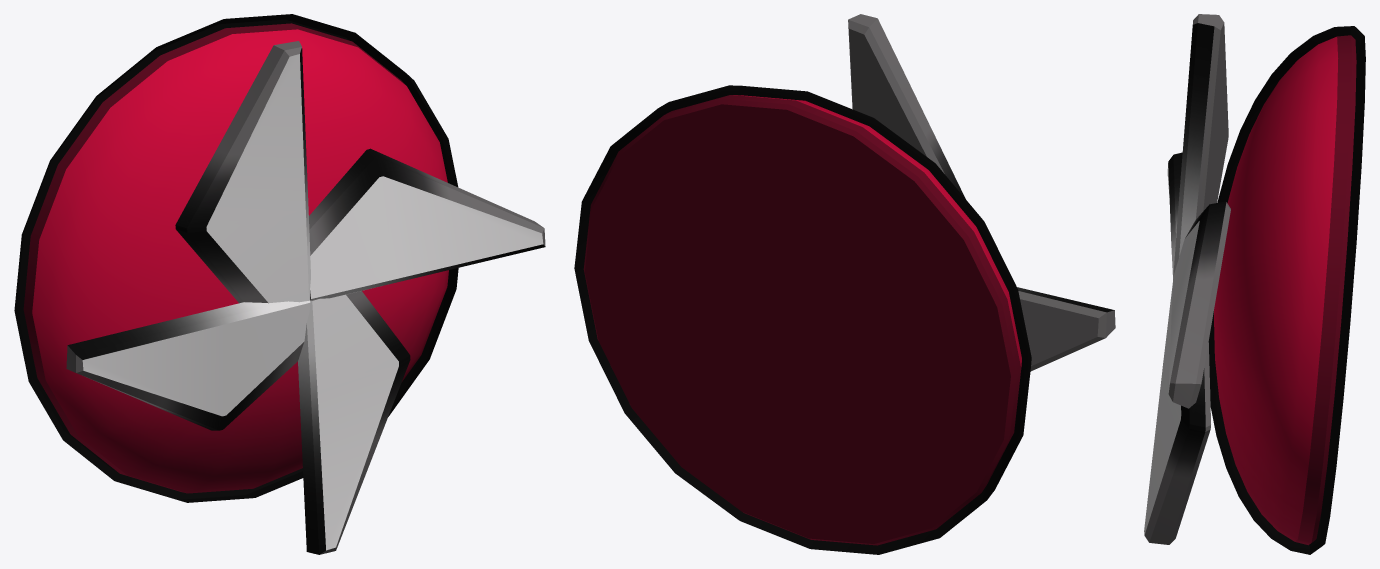
File: Yashichi.obj
3 renders of one model, left to right at view 1: azimuth 30°, elevation 25°; view 2: azimuth 150°, elevation 25°; view 3: azimuth 270°, elevation 25°, orthographic. The views are drawn at different scales.
Visible parts, largest first — view 1: 0000_Group[0], 0002_Group[0], 0001_Group[0]; view 2: 0000_Group[0], 0001_Group[0], 0002_Group[0]; view 3: 0000_Group[0], 0002_Group[0], 0001_Group[0].
Boxes of the visible parts, x1,y1,x2,y2 form: 0000_Group[0]: [23, 23, 448, 493]; 0002_Group[0]: [66, 41, 545, 554]; 0001_Group[0]: [14, 14, 458, 502]; 0000_Group[0]: [583, 95, 1021, 545]; 0001_Group[0]: [574, 85, 1031, 554]; 0002_Group[0]: [848, 14, 1115, 371]; 0000_Group[0]: [1214, 35, 1356, 545]; 0002_Group[0]: [1144, 14, 1230, 544]; 0001_Group[0]: [1208, 26, 1365, 554].
Size of the model in its own units: 1.09 by 1.09 by 0.424.
3 materials, 3 textured.
